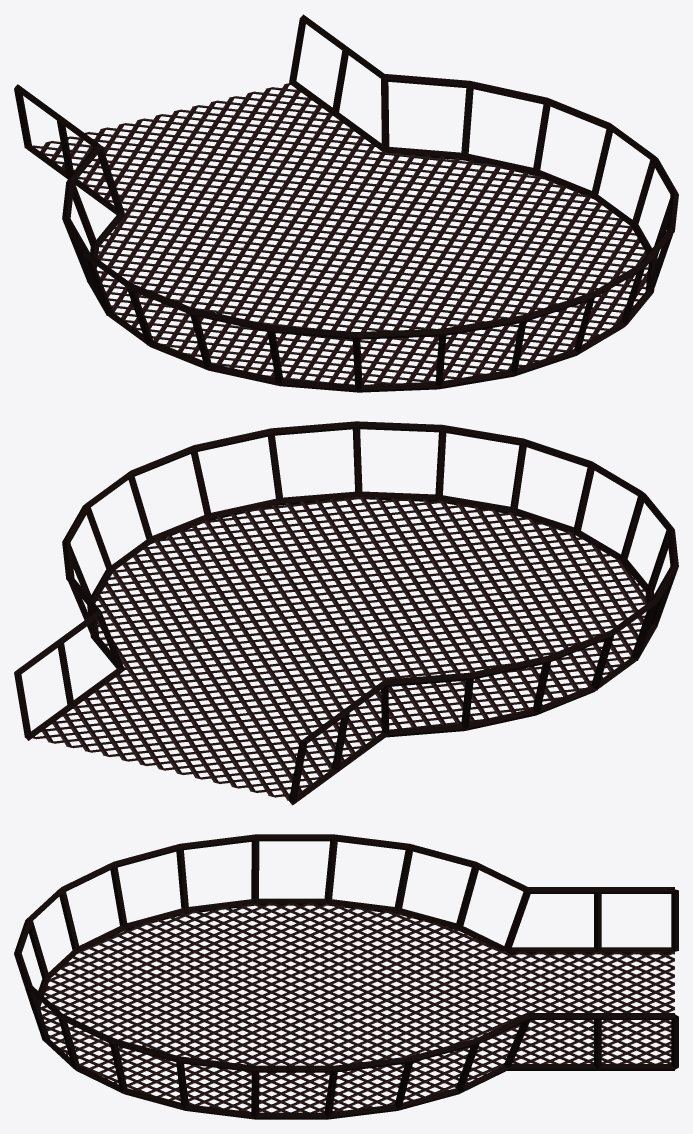
Rendered from Platform_R_1.fbx.
3 renders of one model, top to bottom at view 1: azimuth 30°, elevation 25°; view 2: azimuth 150°, elevation 25°; view 3: azimuth 270°, elevation 25°, orthographic. The views are drawn at different scales.
Visible parts, largest first — view 1: Plat_R_1, Plat_R_1 Rails; view 2: Plat_R_1, Plat_R_1 Rails; view 3: Plat_R_1, Plat_R_1 Rails.
Boxes of the visible parts, x1,y1,x2,y2 form: Plat_R_1: [32, 83, 648, 384]; Plat_R_1 Rails: [14, 14, 678, 392]; Plat_R_1: [31, 497, 646, 800]; Plat_R_1 Rails: [14, 421, 678, 805]; Plat_R_1: [40, 903, 674, 1112]; Plat_R_1 Rails: [14, 834, 678, 1119].
Size of the model in its own units: 109 by 13.5 by 130.
Materials: 2 (1 with a texture image).
